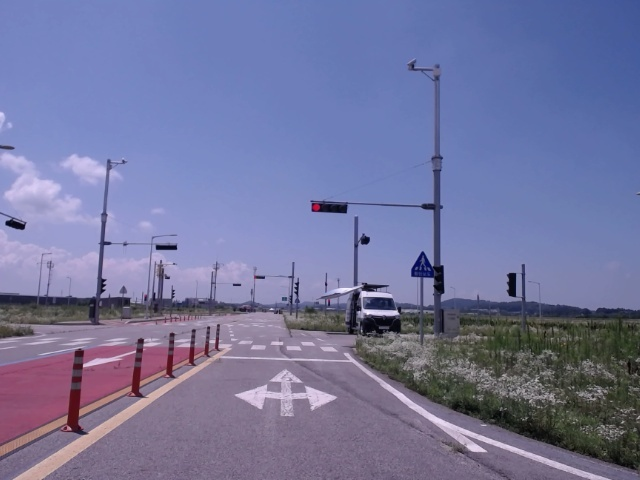red_4: (311, 201, 348, 214)
